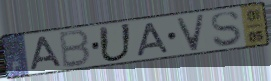A: (29, 34, 65, 72), (135, 21, 171, 58)
B: (58, 28, 93, 70)
S: (209, 10, 242, 49)
U: (98, 22, 135, 64)
V: (174, 13, 206, 53)
